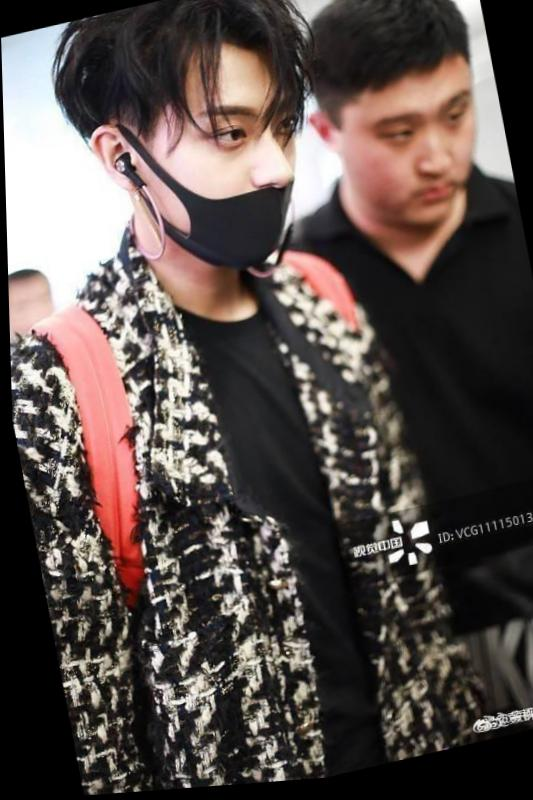NONE: (339, 80, 496, 249)
WRONG: (126, 57, 316, 292)
